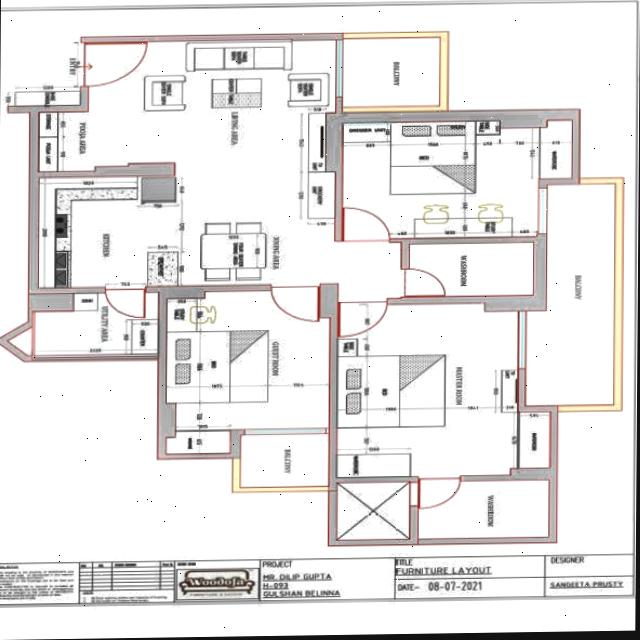room: (336, 306, 550, 476), (87, 40, 336, 176), (166, 291, 329, 489), (340, 119, 574, 239), (525, 183, 614, 407), (36, 176, 182, 288), (183, 178, 333, 284), (34, 292, 157, 360), (417, 481, 548, 538), (406, 244, 534, 296), (342, 38, 439, 106), (38, 111, 127, 172), (334, 483, 409, 541)
